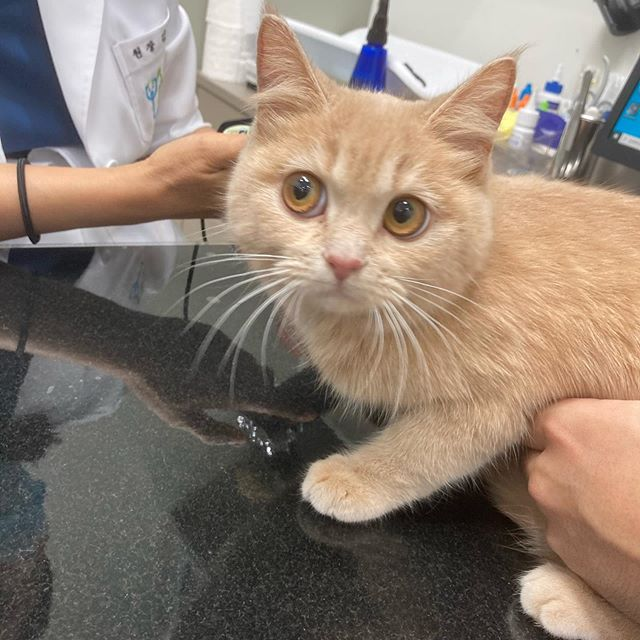cat: (218, 10, 519, 333)
